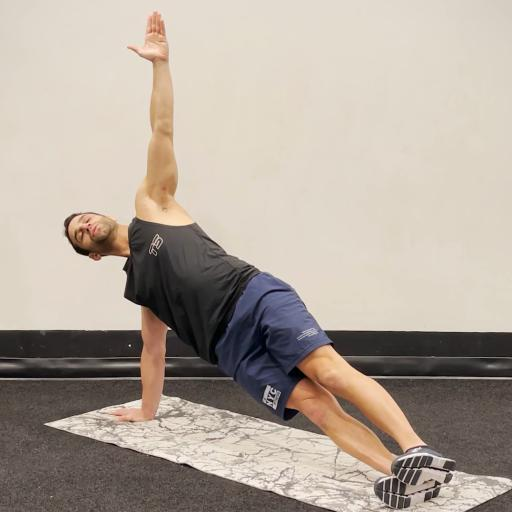Normal_BrenchPress: (62, 11, 458, 511)
